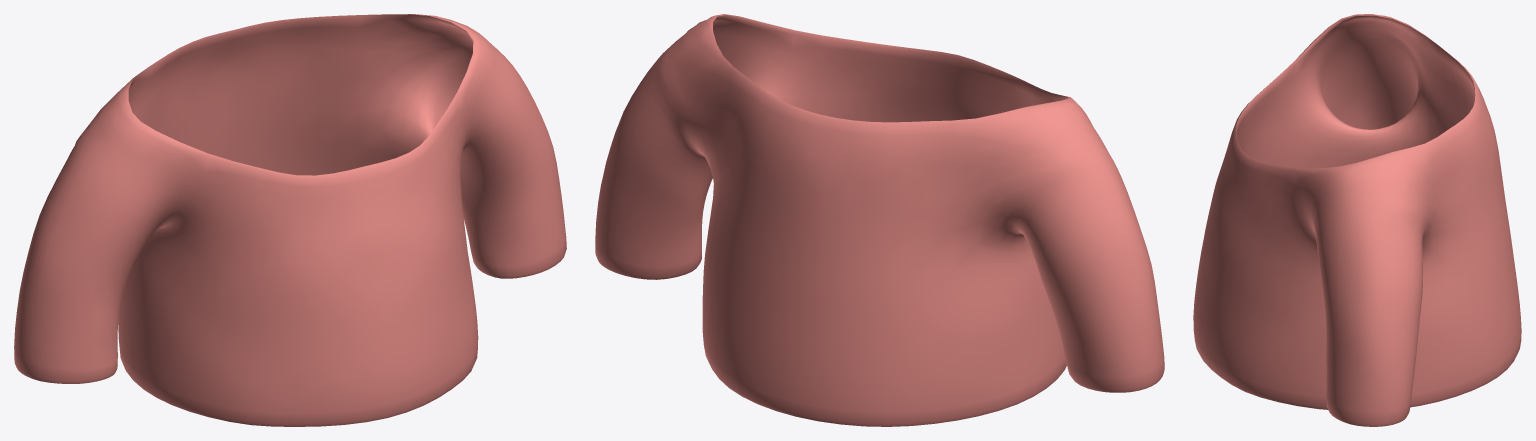
Rendered from Lowcut.gltf.
3 views of the same model, side by side, from view 1: azimuth 30°, elevation 25°; view 2: azimuth 150°, elevation 25°; view 3: azimuth 270°, elevation 25° (orthographic). The views are drawn at different scales.
Visible parts, largest first — view 1: cloth5; view 2: cloth5; view 3: cloth5.
Boxes of the visible parts, x1=… form: cloth5: x1=14, y1=14, x2=566, y2=426; cloth5: x1=595, y1=14, x2=1164, y2=426; cloth5: x1=1193, y1=14, x2=1521, y2=426.
Size of the model in its own units: 10.42 by 5.26 by 6.07.
